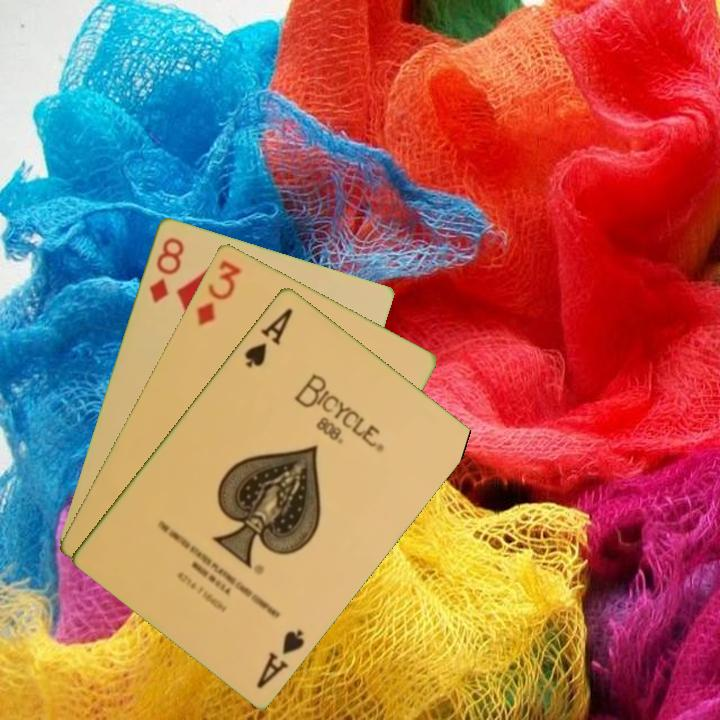3d: (193, 256, 244, 328)
8d: (145, 233, 187, 306)
As: (240, 304, 296, 371), (252, 625, 308, 691)
